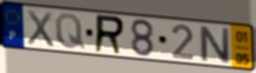2: (171, 23, 196, 61)
8: (130, 18, 156, 58)
N: (197, 24, 233, 66)
Q: (54, 12, 88, 51)
R: (92, 13, 127, 56)
X: (26, 8, 56, 49)
